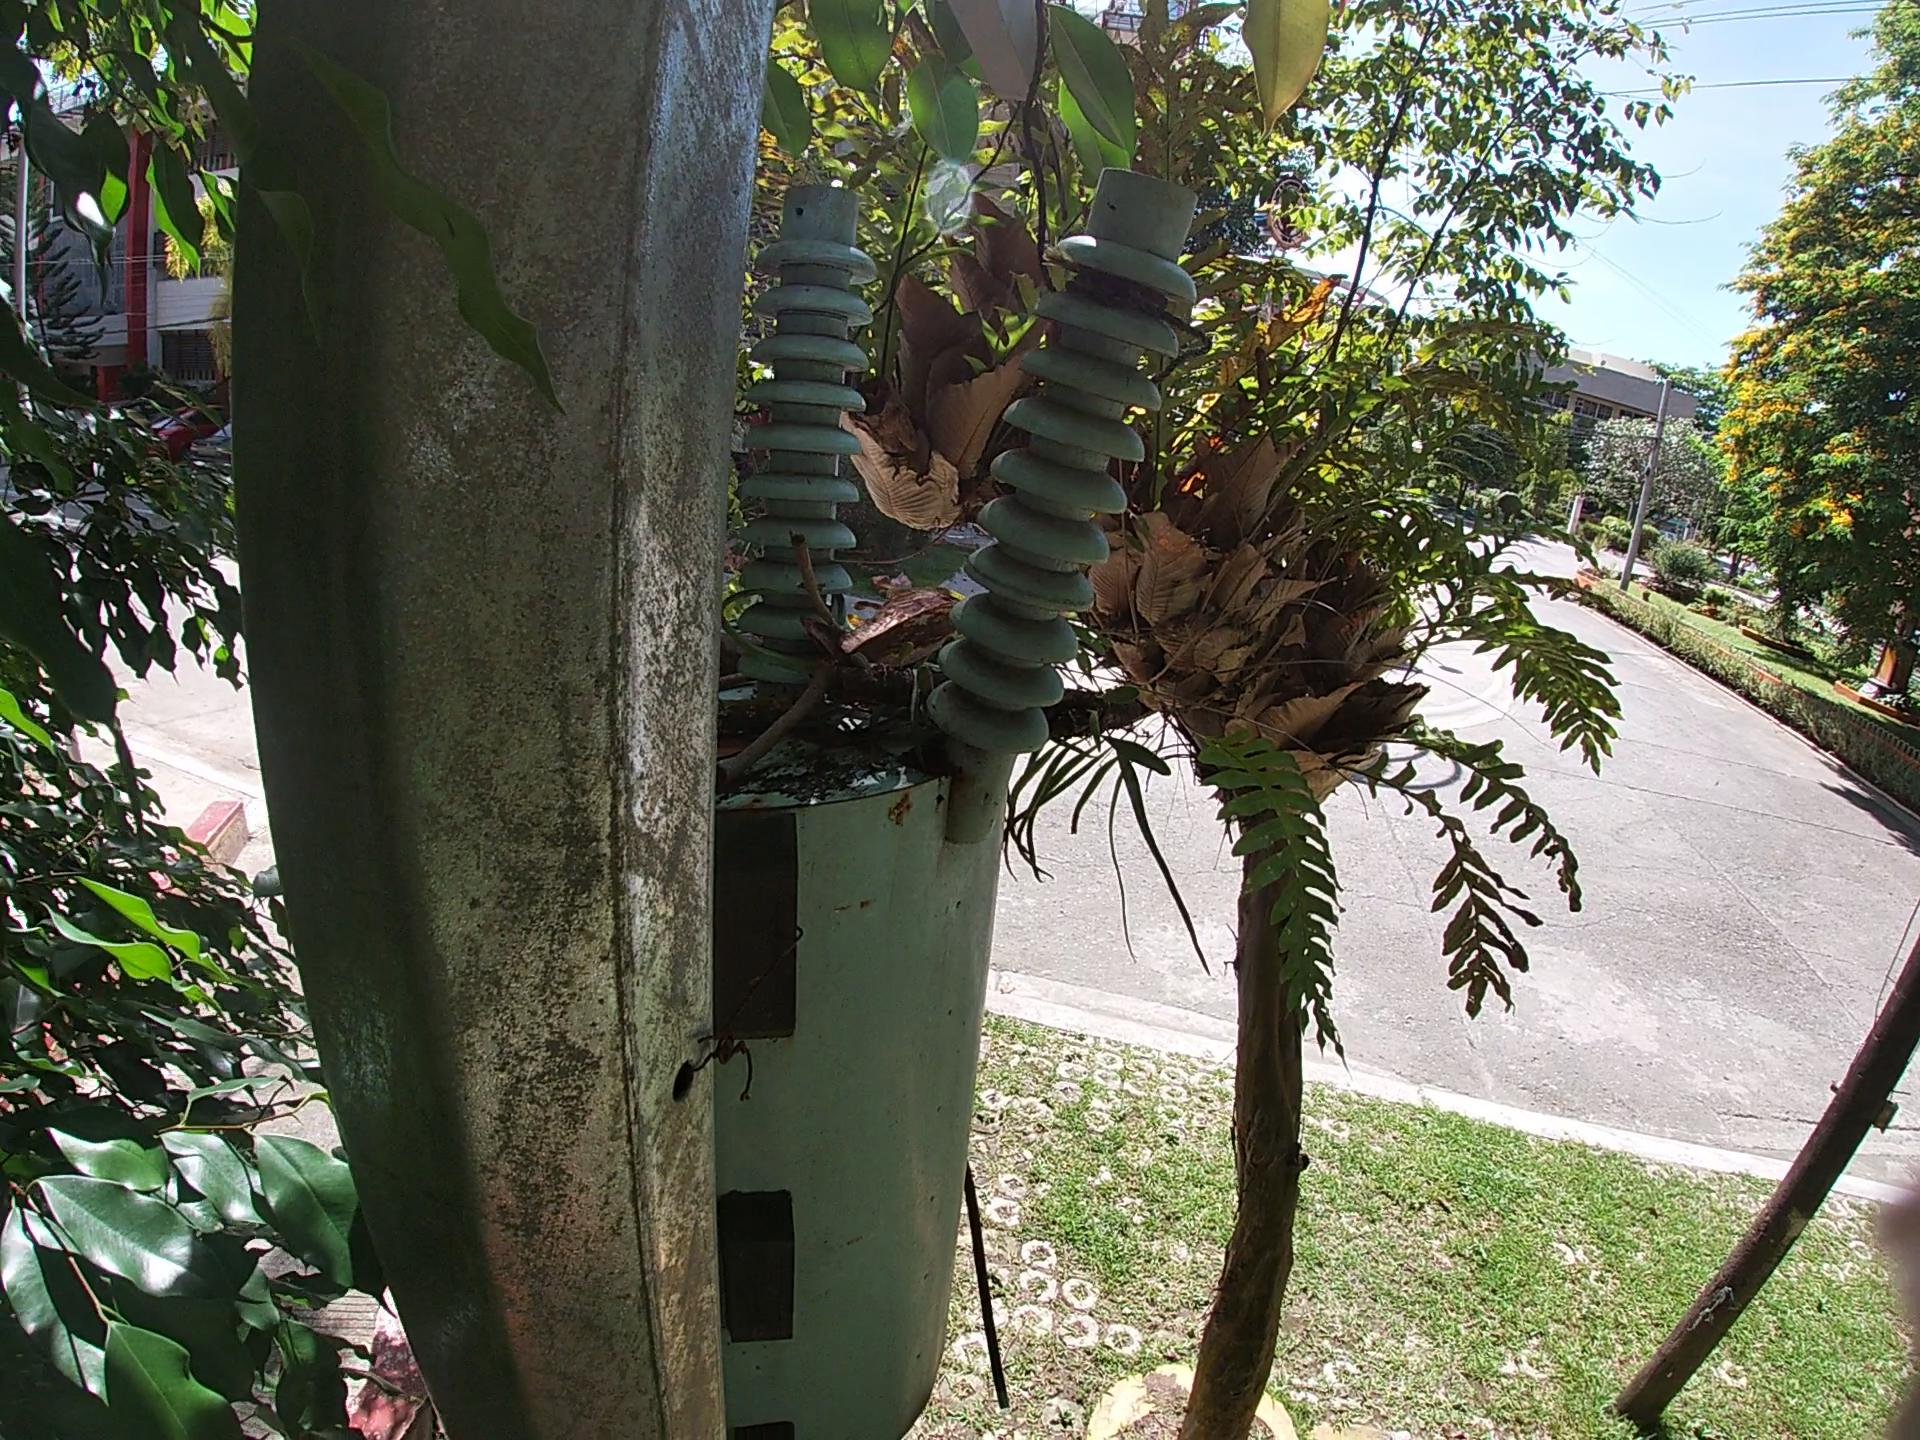branch with leaves: (726, 507, 1137, 782)
mahogany fruit: (735, 520, 918, 702)
tree branch: (763, 653, 813, 820)
